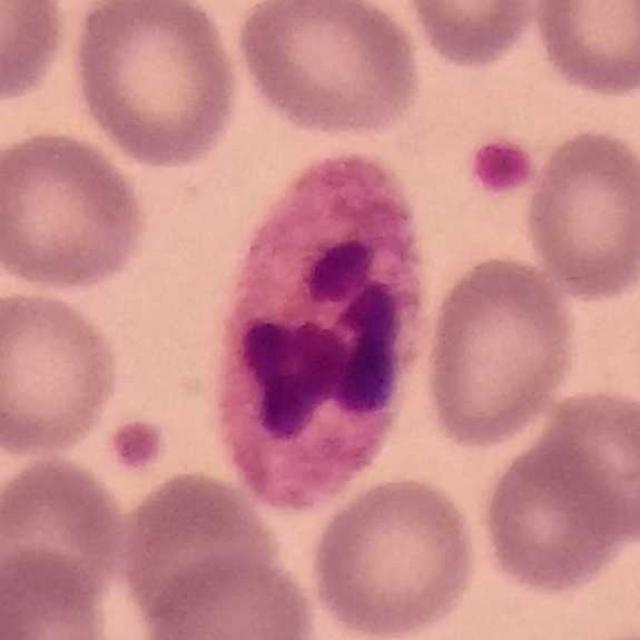Neutrophil: (211, 140, 439, 515)
Platelets: (105, 410, 174, 482), (466, 135, 536, 199)
RBC: (418, 250, 582, 451), (64, 0, 246, 171), (114, 468, 298, 636), (305, 472, 483, 640), (476, 415, 634, 603), (230, 0, 427, 144), (0, 124, 151, 296), (0, 284, 126, 458), (0, 449, 131, 616), (520, 125, 639, 304), (526, 384, 640, 549), (136, 545, 323, 639), (526, 0, 639, 101), (0, 546, 119, 640), (396, 0, 543, 72), (0, 0, 72, 110)
